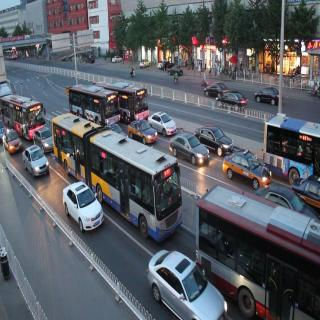BigCar: (194, 171, 320, 320), (51, 105, 185, 245), (262, 110, 320, 178), (67, 82, 122, 126), (1, 96, 48, 137)
Car: (149, 246, 223, 320), (63, 180, 105, 238), (224, 143, 271, 187), (171, 128, 207, 164), (194, 124, 234, 155), (22, 146, 50, 178), (149, 109, 177, 135), (217, 88, 246, 112), (255, 84, 283, 107), (129, 118, 154, 143), (204, 80, 227, 100), (34, 126, 52, 151), (3, 130, 21, 154), (168, 64, 183, 77), (110, 55, 124, 66), (84, 53, 96, 64), (140, 58, 151, 69)
